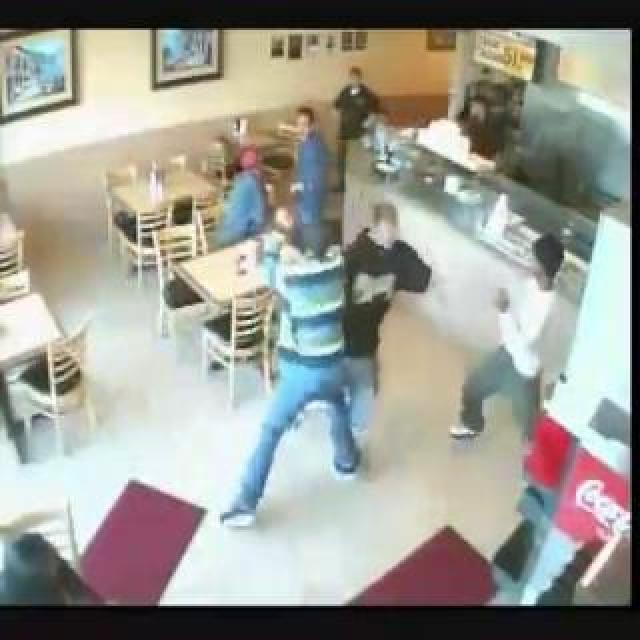fight: (234, 200, 578, 538)
